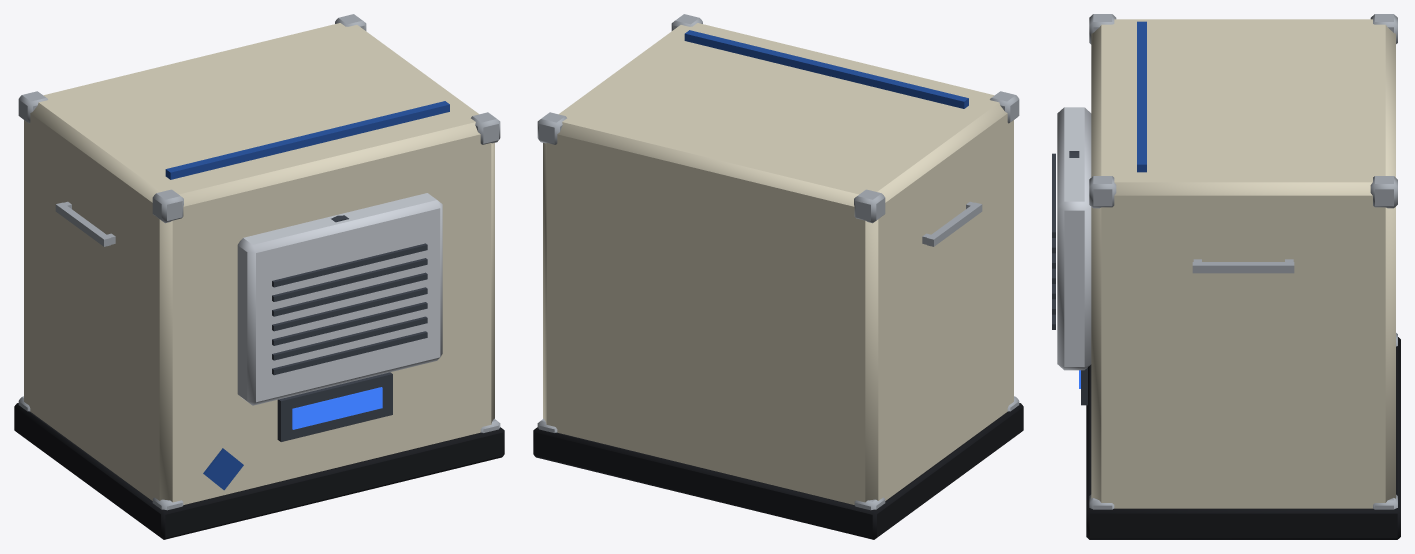
File: crate_refrigerated.glb
The picture shows the model from 3 angles, left to right: view 1: azimuth 30°, elevation 25°; view 2: azimuth 150°, elevation 25°; view 3: azimuth 270°, elevation 25°; orthographic projection. The views are drawn at different scales.
Visible parts, largest first — view 1: crate_refrigerated; view 2: crate_refrigerated; view 3: crate_refrigerated.
Part boxes in pixels (x1,y1,x2,y2): crate_refrigerated: [14, 14, 504, 539]; crate_refrigerated: [533, 14, 1023, 539]; crate_refrigerated: [1052, 14, 1400, 539].
Size of the model in its own units: 1.28 by 1.17 by 1.03.
